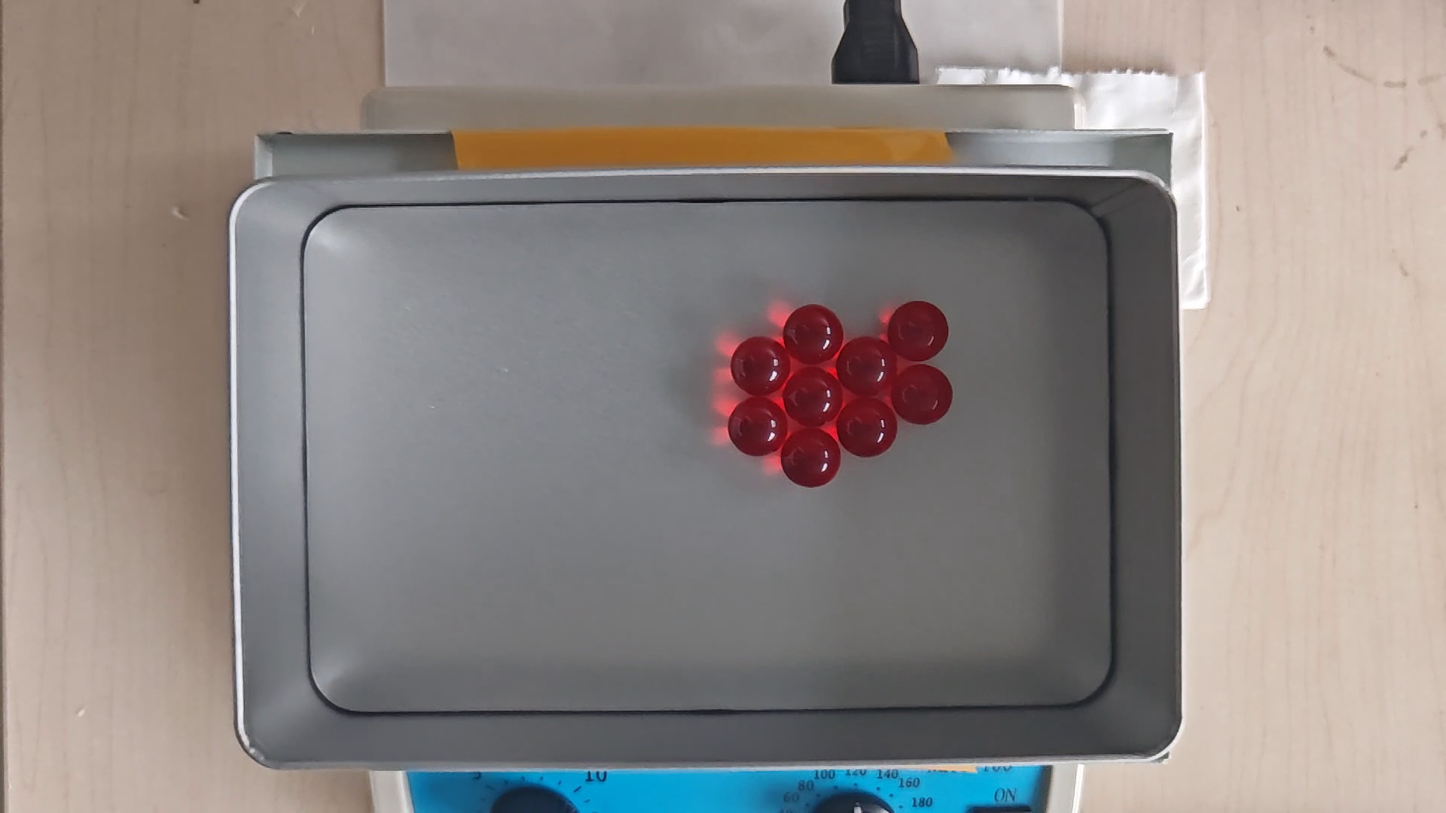ball: (889, 299, 949, 362), (892, 365, 953, 426), (783, 304, 843, 365), (728, 397, 789, 457), (782, 428, 842, 488), (784, 368, 843, 428), (838, 398, 897, 458), (731, 336, 789, 396), (838, 336, 896, 395)
container: (305, 199, 1112, 712)
